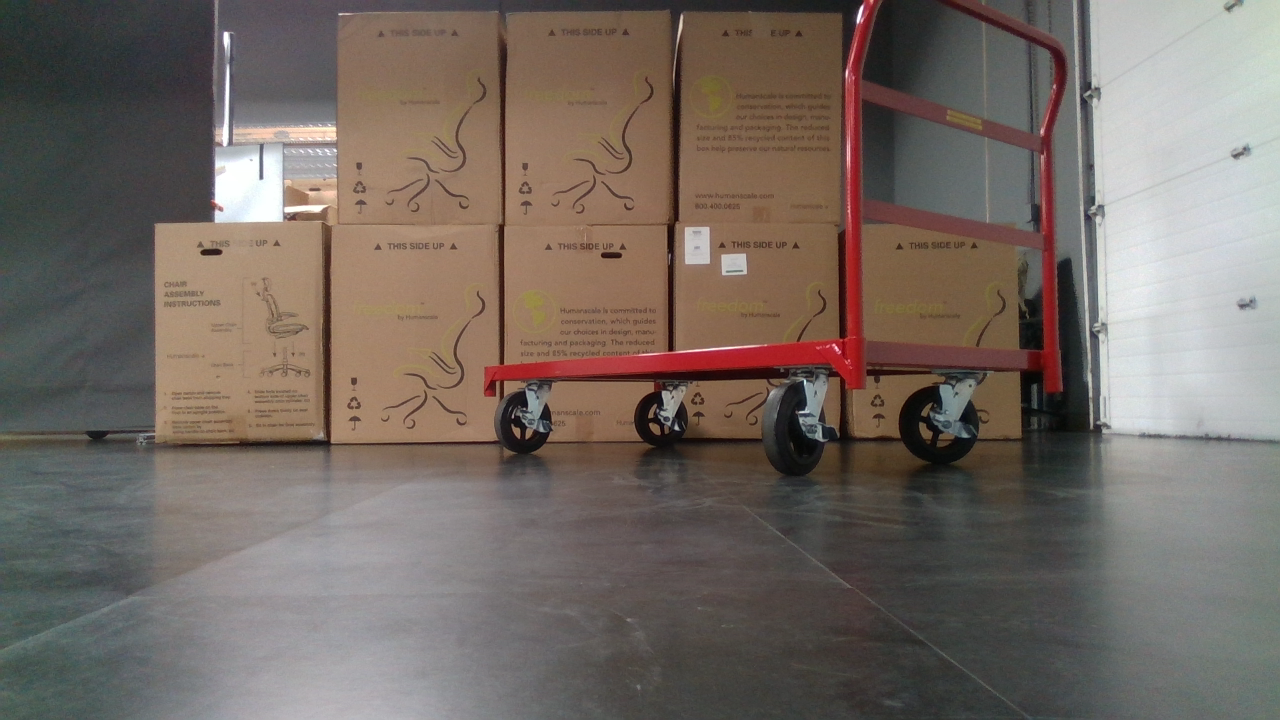Dolly: (483, 0, 1070, 473)
Wheel: (759, 371, 838, 473), (899, 369, 983, 459), (495, 383, 553, 452), (636, 385, 690, 447)
